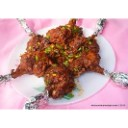chicken_lollipop: (68, 47, 128, 89), (26, 64, 77, 109), (51, 19, 116, 50), (11, 18, 59, 59), (1, 48, 49, 88)
